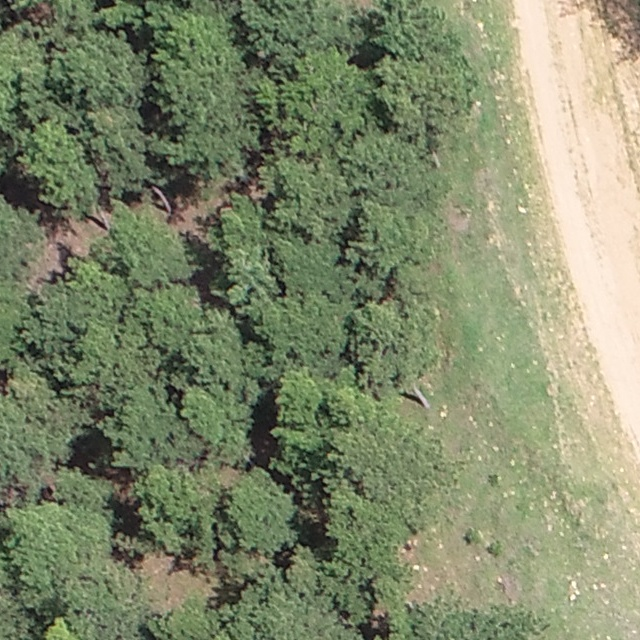unhealthy: (495, 570, 523, 604)
